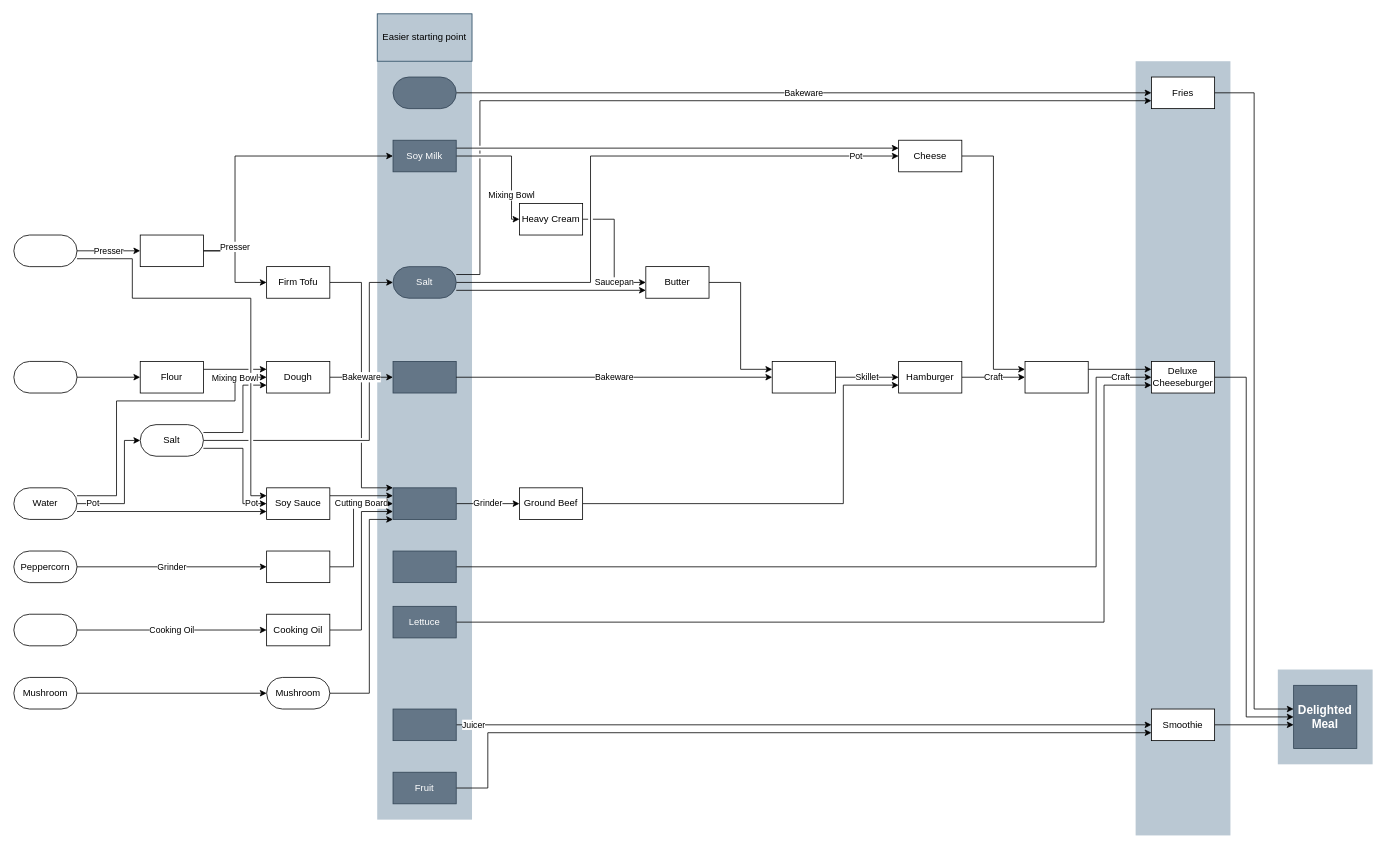
Image size: 1386x849. Some labels were removed from this diagram. Each missing label, with the centre of its shape:
(Olives): (x=45, y=629)
Black Pepper: (x=298, y=566)
Bread: (x=424, y=377)
Cheeseburger: (x=1056, y=377)
Potato: (x=424, y=92)
Raw Tofeak: (x=424, y=503)
Silken Tofu: (x=171, y=250)
Snowball: (x=424, y=724)
Soybean: (x=45, y=250)
Toast: (x=803, y=377)
Tomato: (x=424, y=566)
Wheat: (x=45, y=377)
